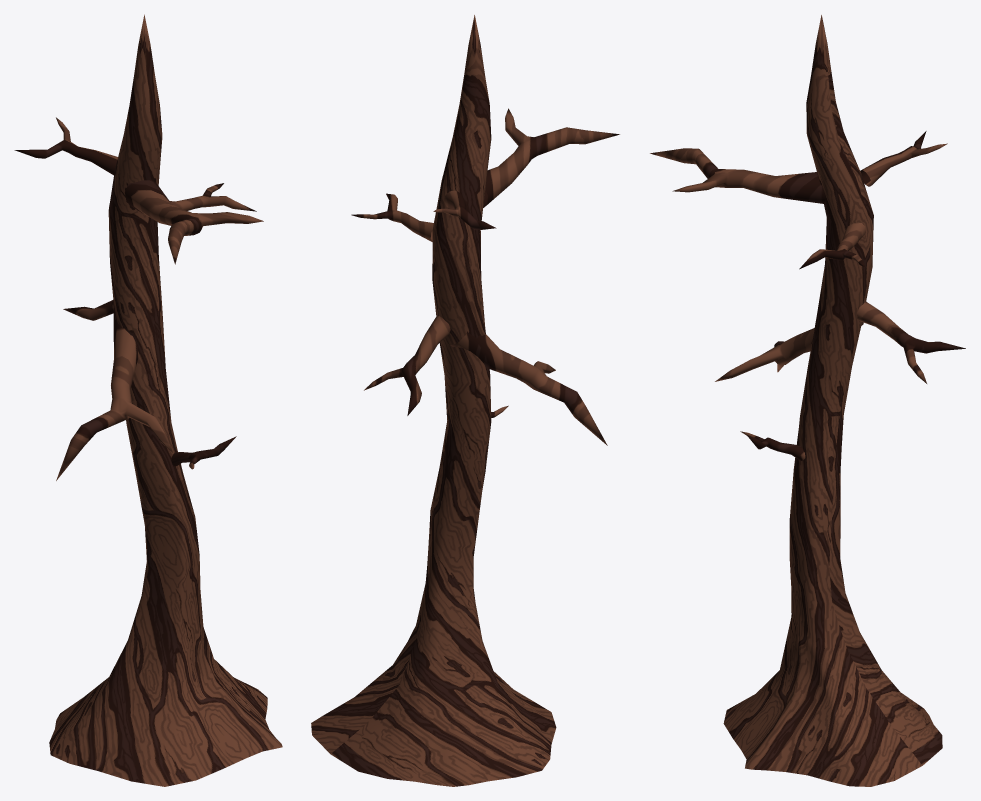
File: Tree 5.fbx
The picture shows the model from 3 angles, left to right: view 1: azimuth 30°, elevation 25°; view 2: azimuth 150°, elevation 25°; view 3: azimuth 270°, elevation 25°; orthographic projection. The views are drawn at different scales.
Visible parts, largest first — view 1: Pines_2; view 2: Pines_2; view 3: Pines_2.
Part boxes in pixels (x1,y1,x2,y2): Pines_2: (14, 14, 282, 786); Pines_2: (311, 15, 619, 786); Pines_2: (650, 15, 965, 786).
Size of the model in its own units: 6.2 by 17.31 by 7.02.
